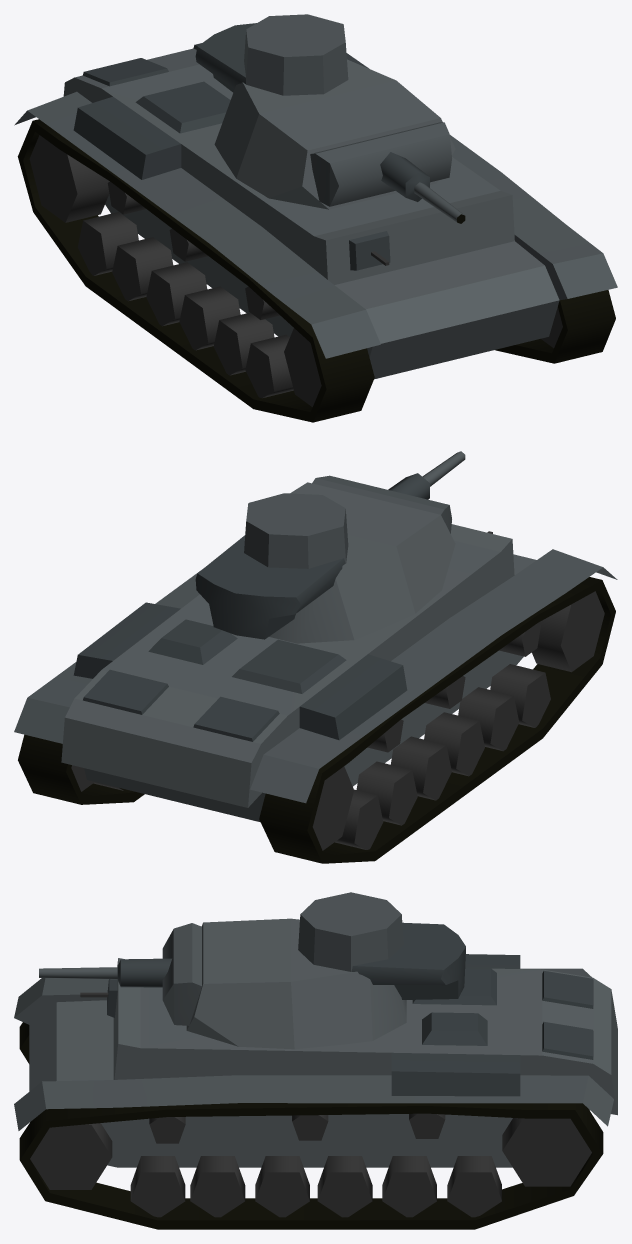
Rendered from panzer_iii_low-poly_tank.glb.
3 views of the same model, one above another, from view 1: azimuth 30°, elevation 25°; view 2: azimuth 150°, elevation 25°; view 3: azimuth 270°, elevation 25° (orthographic). The views are drawn at different scales.
Parts seen in each view (by area): view 1: Hull, Tracks, Turret, Gun; view 2: Hull, Tracks, Turret, Gun; view 3: Hull, Tracks, Turret, Gun.
Boxes of the visible parts, bbox=[...] form: Hull: bbox=[14, 43, 617, 379]; Tracks: bbox=[17, 119, 615, 422]; Turret: bbox=[195, 14, 455, 209]; Gun: bbox=[310, 122, 465, 223]; Hull: bbox=[14, 524, 617, 822]; Tracks: bbox=[18, 577, 615, 863]; Turret: bbox=[195, 482, 455, 643]; Gun: bbox=[312, 451, 465, 533]; Hull: bbox=[14, 954, 617, 1167]; Tracks: bbox=[19, 1022, 603, 1229]; Turret: bbox=[186, 892, 465, 1049]; Gun: bbox=[39, 923, 201, 1025].
Size of the model in its own units: 2.25 by 1.94 by 4.27.
1 material, 1 textured.
